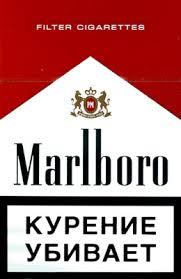marlboro: (2, 1, 181, 277)
